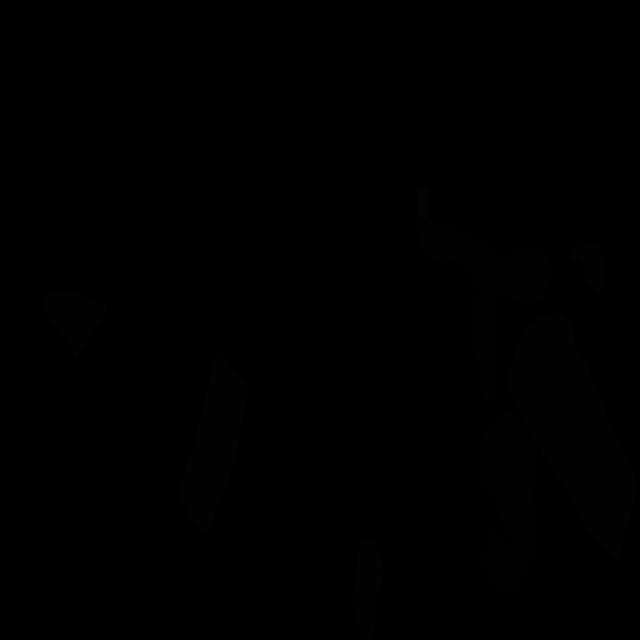cardboard: (506, 310, 637, 559), (178, 349, 250, 534), (44, 289, 108, 356), (352, 535, 384, 640), (571, 239, 605, 295), (417, 186, 428, 222)
rigid_plastic: (472, 244, 552, 404), (477, 410, 541, 599), (418, 219, 498, 287)
